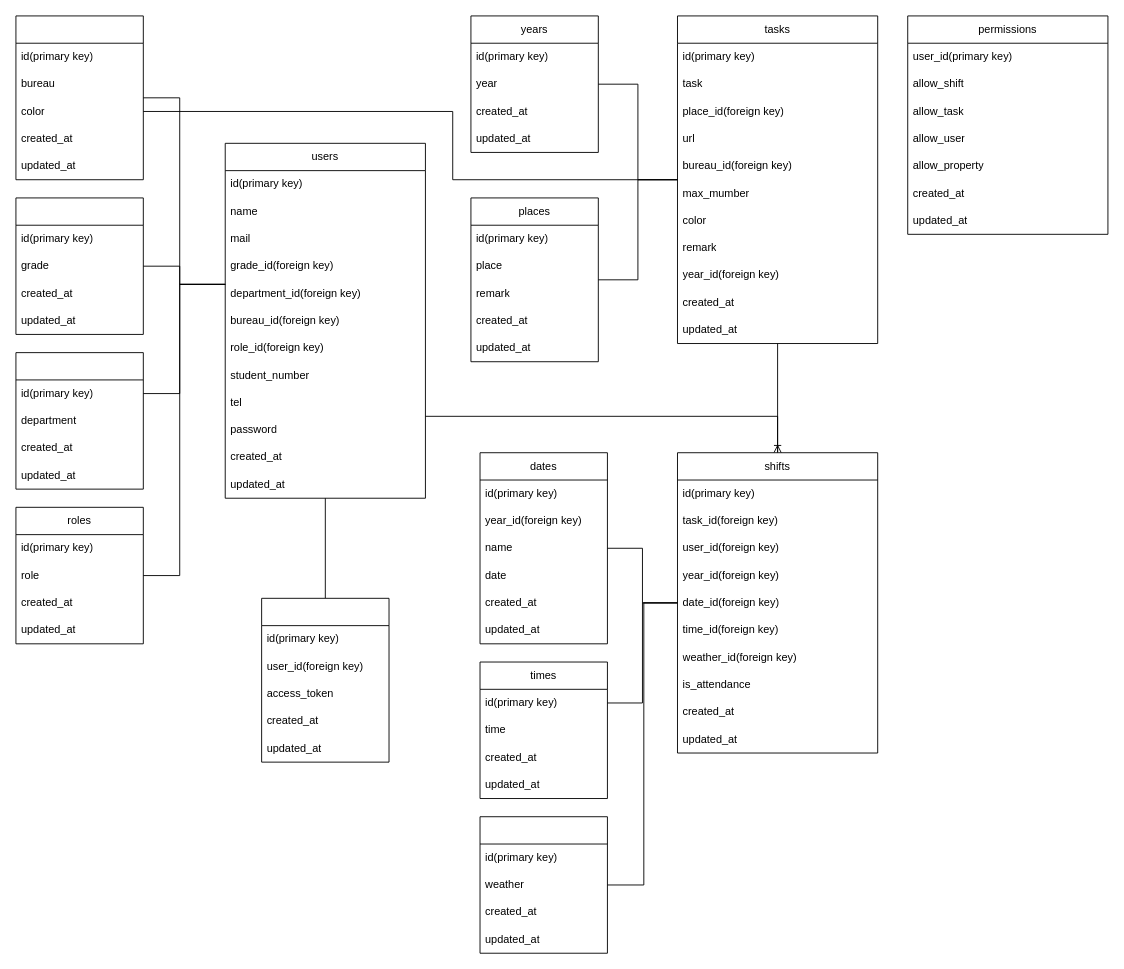
The diagram is 1124 pixels wide and 969 high, and some of its shapes have lost their labels. The box of each missing label's shape, as (x1, y1, x2, y2) in pixels:
bureaus: (15, 15, 143, 180)
departments: (15, 352, 143, 489)
grades: (15, 197, 143, 334)
sessions: (261, 597, 389, 762)
weathers: (479, 816, 607, 953)
